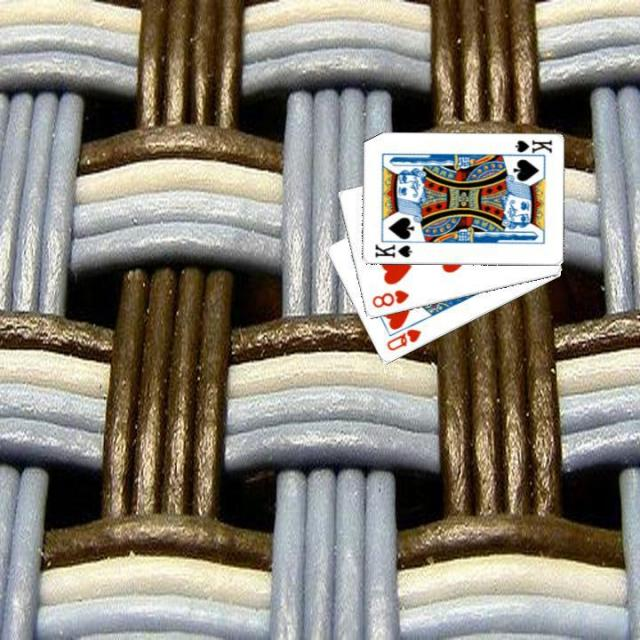8H: (368, 286, 411, 310)
KS: (507, 136, 553, 159), (371, 241, 413, 259)
QH: (382, 325, 423, 353)
